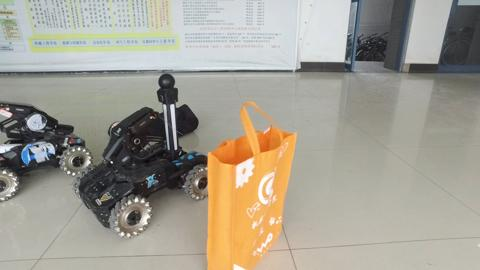bag: (208, 102, 293, 270)
chariot: (73, 77, 210, 235), (3, 97, 92, 203)
